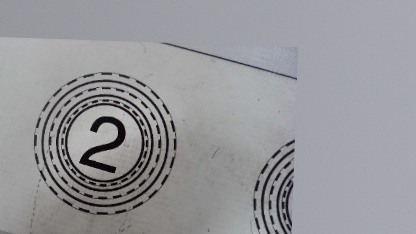2r: (25, 69, 180, 219)
